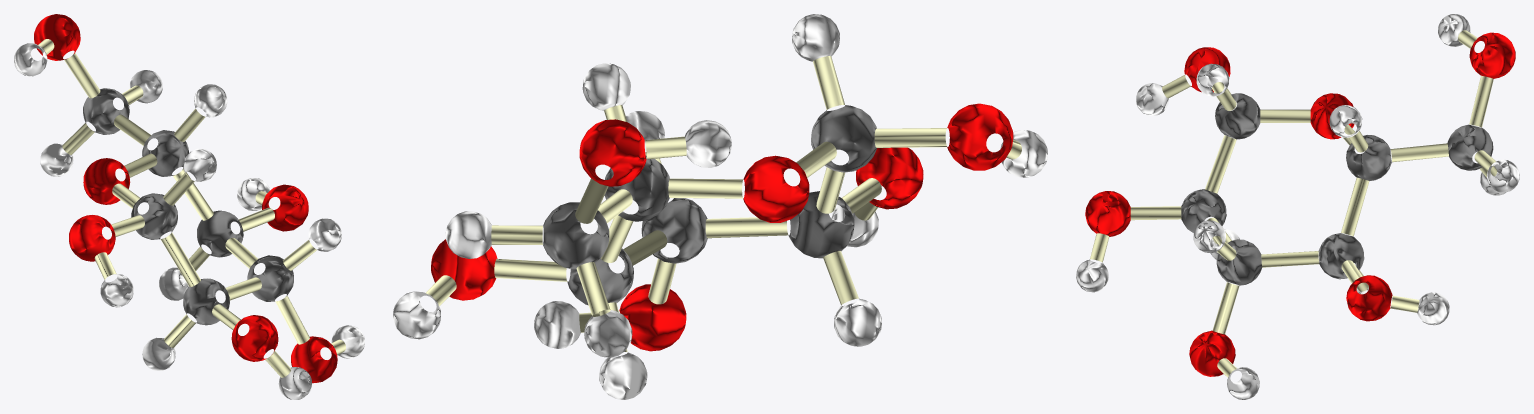
File: glucose.gltf
3 views of the same model, side by side, from view 1: azimuth 30°, elevation 25°; view 2: azimuth 150°, elevation 25°; view 3: azimuth 270°, elevation 25° (orthographic). The views are drawn at different scales.
Parts seen in each view (by area): view 1: ?????????1; view 2: ?????????1; view 3: ?????????1.
Boxes of the visible parts, box(x1,y1,x2,y2) form: ?????????1: box(14, 14, 364, 399); ?????????1: box(393, 14, 1047, 399); ?????????1: box(1076, 14, 1519, 399).
Bounding box in the file's own units: 54.19 × 47.31 × 66.79.
